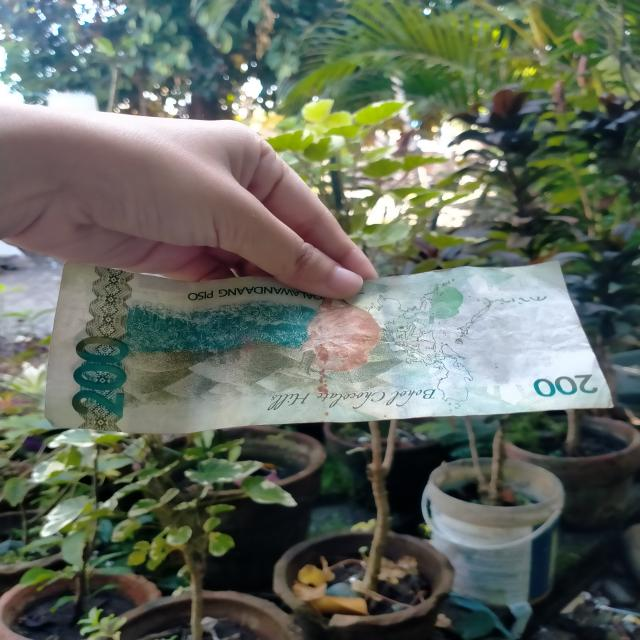see_through_mark: (450, 287, 556, 314)
value: (65, 336, 131, 422)
